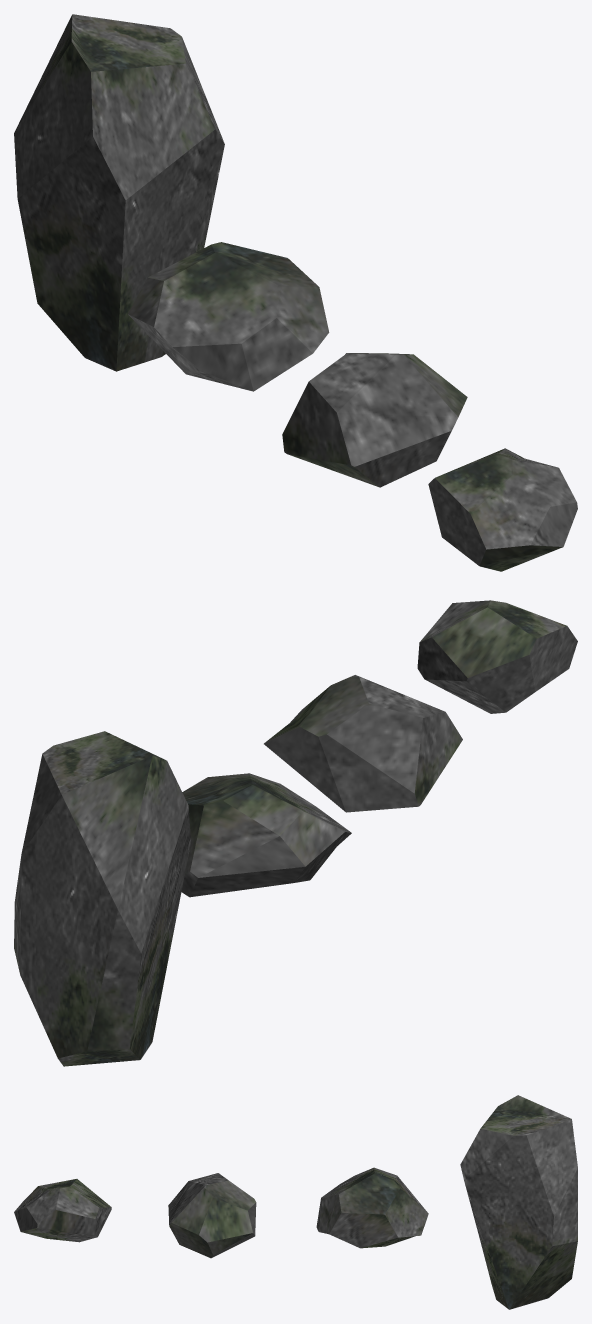
File: rocks psx ok.fbx
3 renders of one model, top to bottom at view 1: azimuth 30°, elevation 25°; view 2: azimuth 150°, elevation 25°; view 3: azimuth 270°, elevation 25°, orthographic. The views are drawn at different scales.
Visible parts, largest first — view 1: big rock, mediun rock, mediun rock 2, mediun rock 3; view 2: big rock, mediun rock 2, mediun rock, mediun rock 3; view 3: big rock, mediun rock, mediun rock 2, mediun rock 3.
Boxes of the visible parts, <box> form: big rock: <box>14,14,224,371</box>; mediun rock: <box>128,242,329,391</box>; mediun rock 2: <box>282,353,467,487</box>; mediun rock 3: <box>428,448,577,571</box>; big rock: <box>14,731,190,1066</box>; mediun rock 2: <box>264,675,462,812</box>; mediun rock: <box>181,773,351,897</box>; mediun rock 3: <box>417,600,577,713</box>; big rock: <box>460,1095,577,1309</box>; mediun rock: <box>316,1167,428,1248</box>; mediun rock 2: <box>168,1173,256,1258</box>; mediun rock 3: <box>14,1179,111,1242</box>.
Size of the model in its own units: 230 by 380 by 1051.
1 material, 1 textured.
